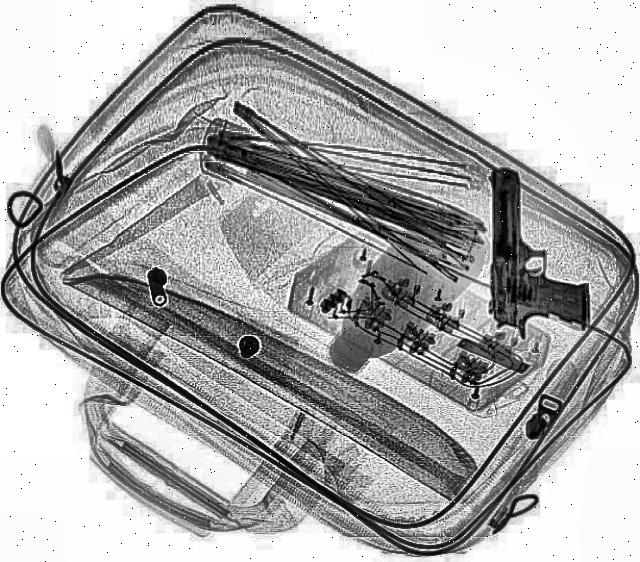Gun: (487, 166, 599, 340)
